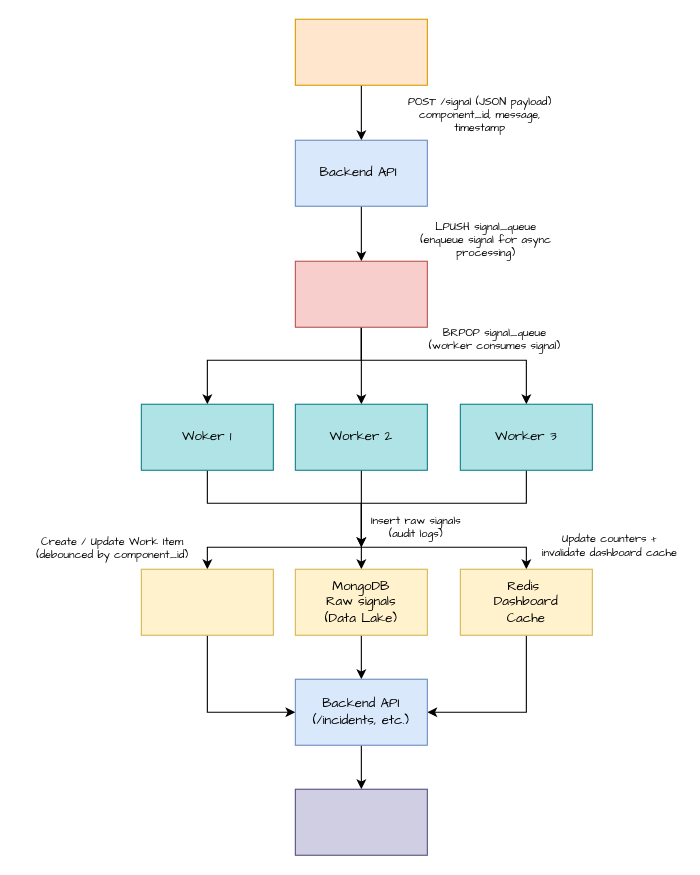
Some shapes in this 700 by 875 pixel diagram are drawn without their labels. The centre of each missing label's shape, as x and y in pixels:
"PostgresSQL WorkItems (Source)" goes at pixel 206 601.
"React Frontend Dashboard UI" goes at pixel 360 821.
"Redis queue" goes at pixel 360 293.
"Signal producers" goes at pixel 360 51.
